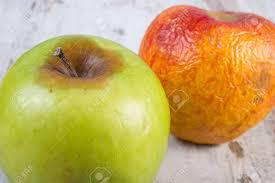damaged_apple: (1, 39, 168, 174), (145, 3, 274, 147)
